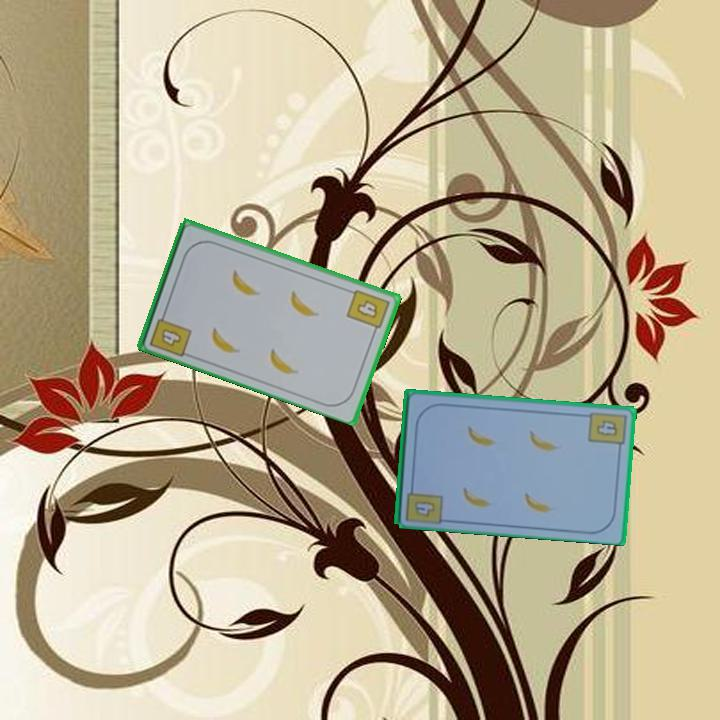4b: (146, 306, 194, 359), (343, 286, 392, 337), (585, 408, 629, 454), (411, 497, 438, 520)
